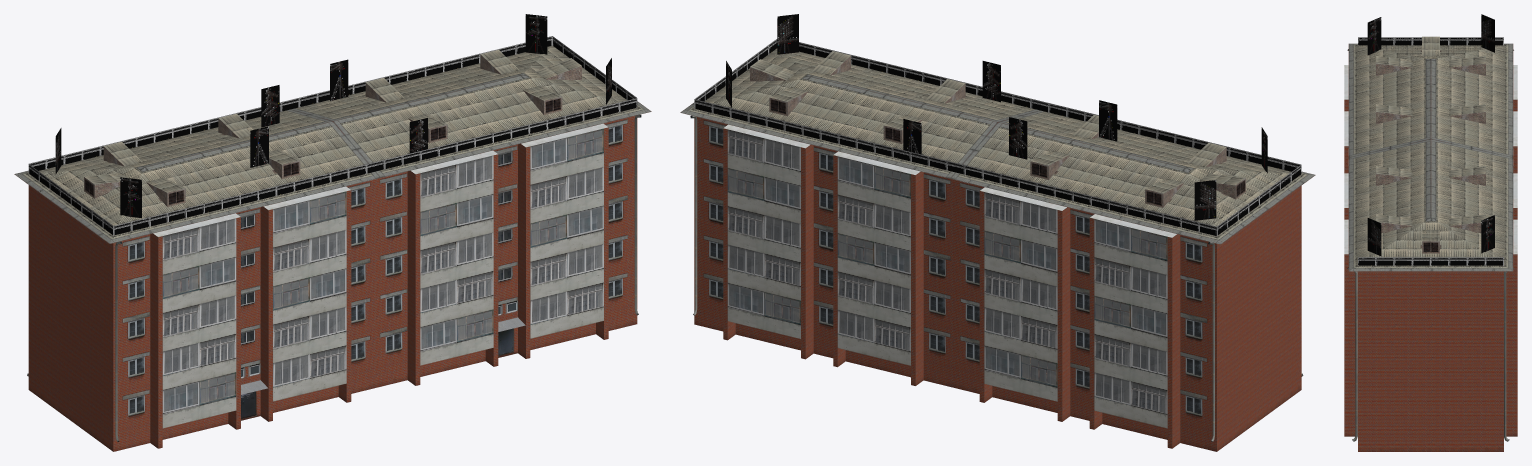
The model's file is rus_build_5et_04.fbx.
The picture shows the model from 3 angles, left to right: view 1: azimuth 30°, elevation 25°; view 2: azimuth 150°, elevation 25°; view 3: azimuth 270°, elevation 25°; orthographic projection. The views are drawn at different scales.
Parts seen in each view (by area): view 1: Regroup13, rus_build_dec_01; view 2: Regroup13, rus_build_dec_01; view 3: Regroup13, rus_build_dec_01.
Part boxes in pixels (<box>): Regroup13: <box>14,45,651,451</box>; rus_build_dec_01: <box>28,14,637,235</box>; Regroup13: <box>680,48,1315,451</box>; rus_build_dec_01: <box>694,14,1301,235</box>; Regroup13: <box>1344,36,1517,451</box>; rus_build_dec_01: <box>1358,14,1503,265</box>.
Size of the model in its own units: 4130 by 1925 by 1330.
